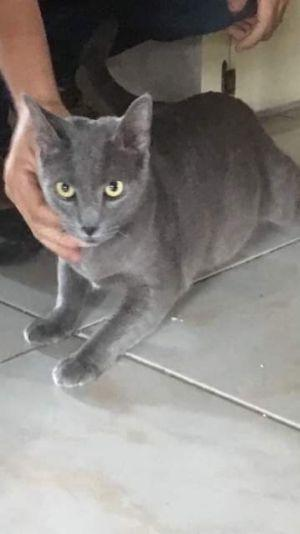rblue: (20, 80, 169, 252)
